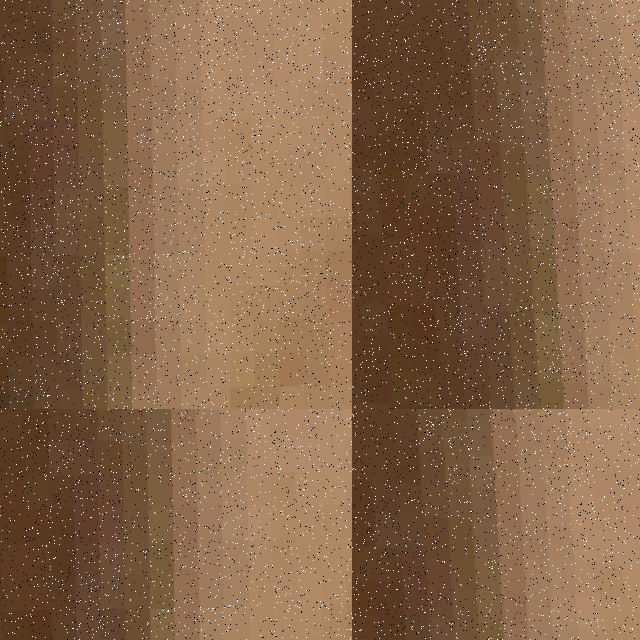drone: (352, 0, 640, 409), (352, 409, 640, 640)
